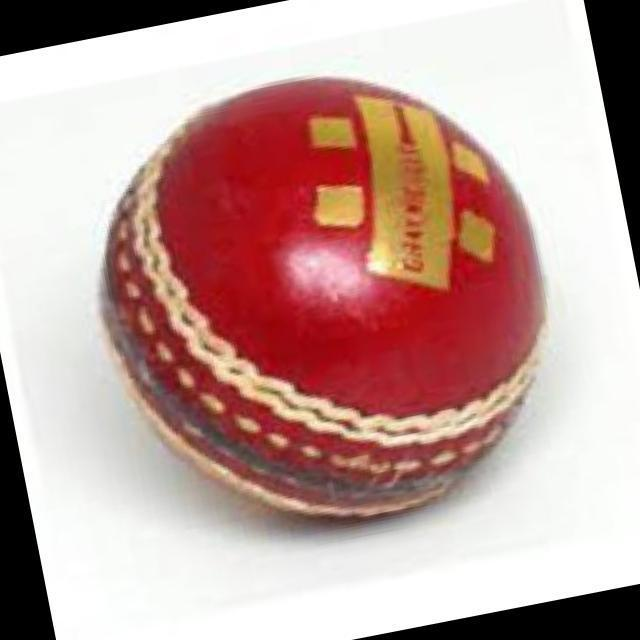-: (78, 42, 579, 533)
